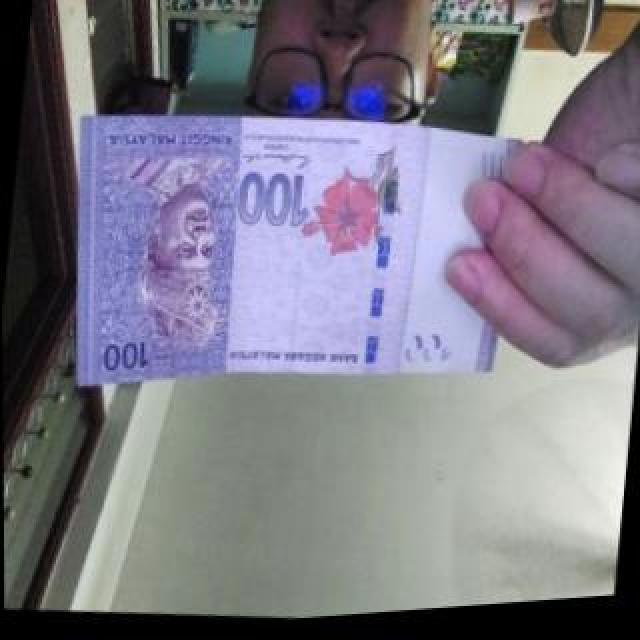100 Ringgit: (52, 80, 528, 426)
